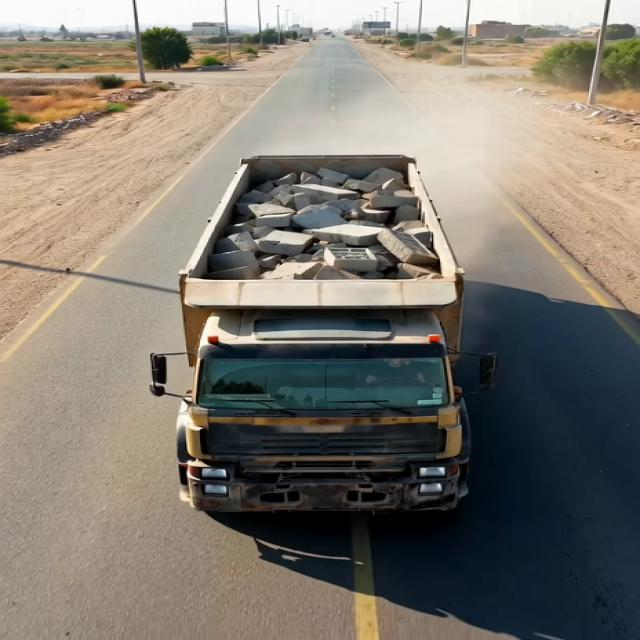trailer: (166, 150, 463, 327)
truck: (142, 104, 492, 525)
